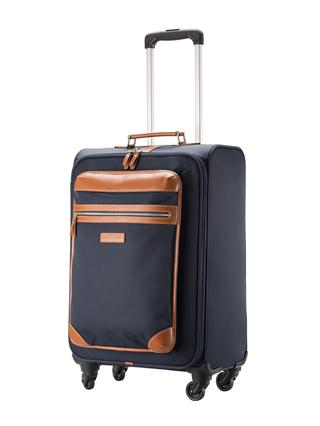suitcase: (69, 29, 248, 401)
